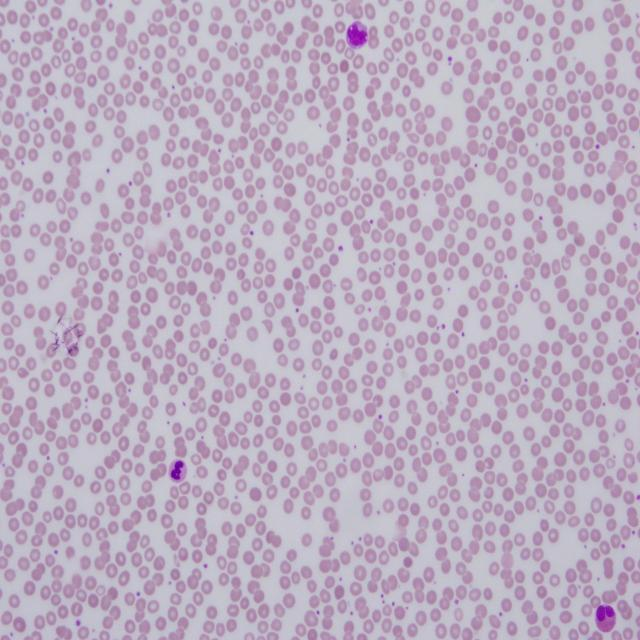cell: (170, 461, 188, 481)
